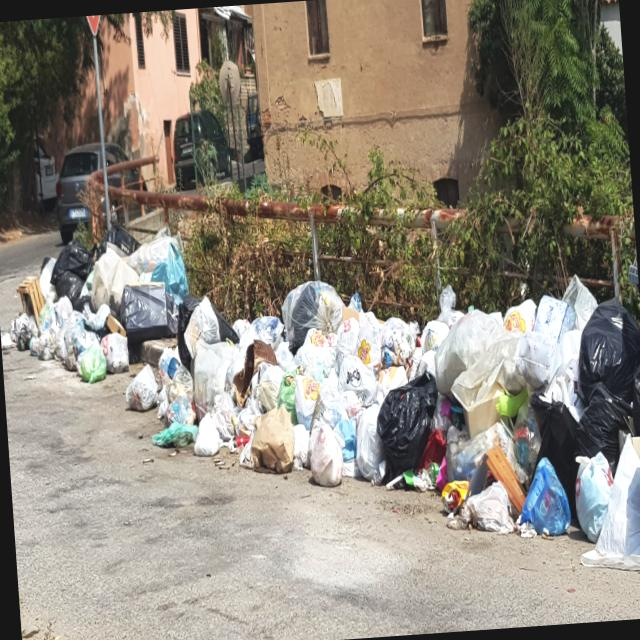garbage: (0, 178, 640, 616)
